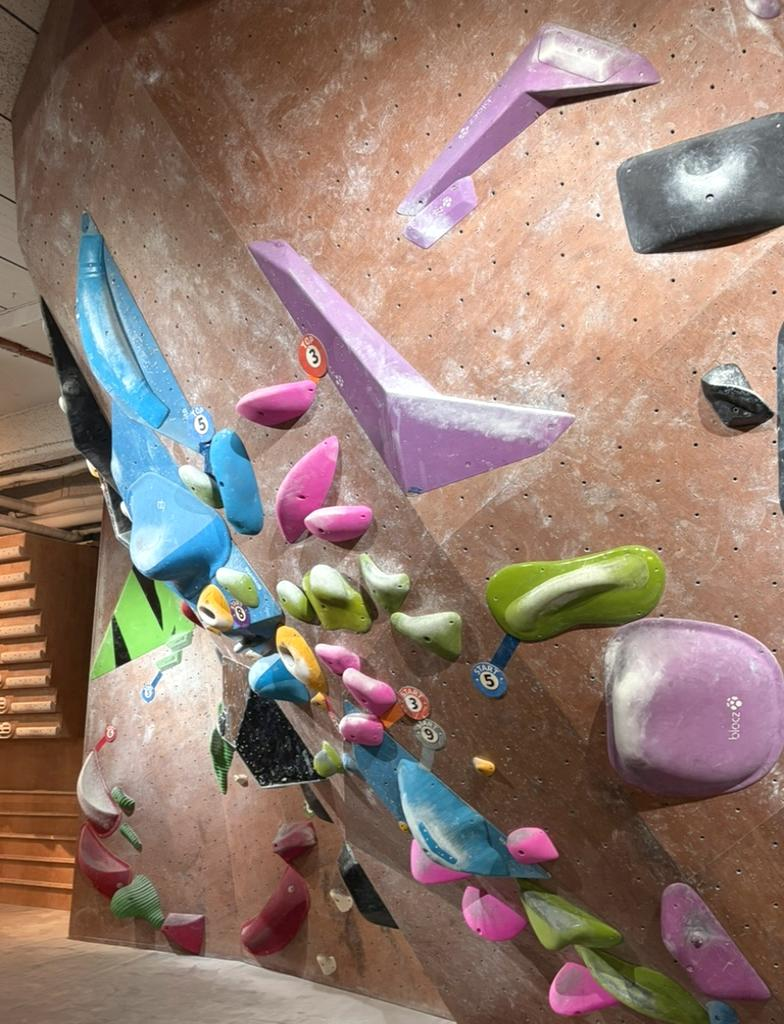crimp: (403, 178, 475, 247)
jib: (473, 757, 494, 776)
jug: (618, 114, 783, 253), (276, 436, 339, 542), (303, 564, 371, 631), (236, 380, 314, 425), (392, 611, 460, 659), (360, 554, 409, 613), (305, 505, 373, 542), (343, 668, 395, 714), (180, 466, 223, 508), (277, 581, 316, 622), (216, 567, 257, 606), (339, 713, 383, 746), (315, 645, 359, 675)
ledge: (249, 243, 573, 490), (486, 545, 665, 642)
pocket: (277, 626, 326, 692), (197, 584, 232, 631)
sidepull: (605, 619, 783, 797), (78, 225, 167, 427), (397, 762, 549, 876)
sloper: (129, 473, 229, 598), (248, 654, 308, 701), (313, 742, 342, 776)
tape: (472, 635, 519, 695), (382, 687, 429, 727), (189, 406, 214, 475), (413, 719, 445, 769), (299, 334, 327, 380), (142, 671, 161, 701), (229, 598, 248, 628), (95, 724, 115, 751)
undercling: (398, 25, 658, 214)
volume: (77, 213, 200, 449)
